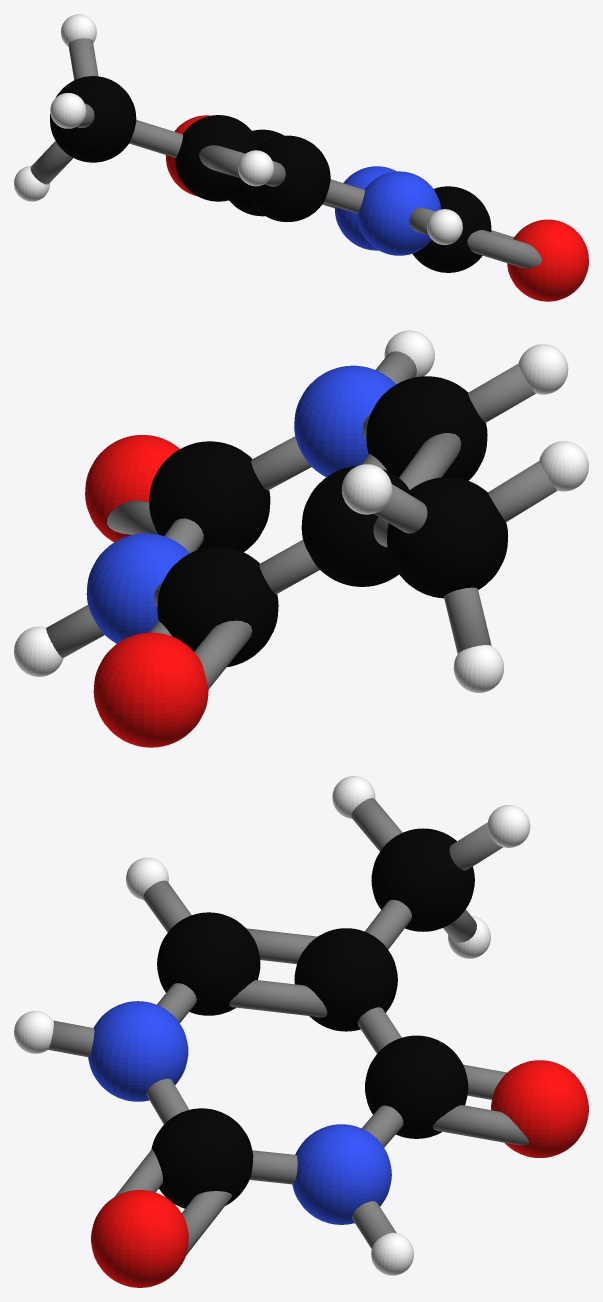
Rendered from TIMINA.obj.
The picture shows the model from 3 angles, top to bottom: view 1: azimuth 30°, elevation 25°; view 2: azimuth 150°, elevation 25°; view 3: azimuth 270°, elevation 25°; orthographic projection. The views are drawn at different scales.
Visible parts, largest first — view 1: Carbon_ball_Sphere, Nitrogen_ball_Sphere.003, Oxygen_ball_Sphere.002, Hydrogen_ball_Sphere.001, Stick_Cylinder.014_Cylinder.014, Stick_Cylinder.009_Cylinder.009, Stick_Cylinder.012_Cylinder.012, Stick_Cylinder_Cylinder, Stick_Cylinder.008_Cylinder.008, Stick_Cylinder.001_Cylinder.001, Stick_Cylinder.004_Cylinder.004; view 2: Carbon_ball_Sphere, Oxygen_ball_Sphere.002, Nitrogen_ball_Sphere.003, Hydrogen_ball_Sphere.001, Stick_Cylinder.013_Cylinder.013, Stick_Cylinder.012_Cylinder.012, Stick_Cylinder.002_Cylinder.002, Stick_Cylinder.005_Cylinder.005, Stick_Cylinder_Cylinder, Stick_Cylinder.011_Cylinder.011, Stick_Cylinder.017_Cylinder.017, Stick_Cylinder.003_Cylinder.003 (+4 smaller); view 3: Carbon_ball_Sphere, Nitrogen_ball_Sphere.003, Oxygen_ball_Sphere.002, Hydrogen_ball_Sphere.001, Stick_Cylinder.018_Cylinder.018, Stick_Cylinder.016_Cylinder.016, Stick_Cylinder_Cylinder, Stick_Cylinder.015_Cylinder.015, Stick_Cylinder.013_Cylinder.013, Stick_Cylinder.010_Cylinder.010, Stick_Cylinder.002_Cylinder.002, Stick_Cylinder.008_Cylinder.008 (+10 smaller).
Part boxes in pixels (x1,y1,x2,y2): Carbon_ball_Sphere: [50, 76, 491, 272]; Nitrogen_ball_Sphere.003: [335, 166, 440, 255]; Oxygen_ball_Sphere.002: [165, 115, 588, 301]; Hydrogen_ball_Sphere.001: [14, 14, 462, 244]; Stick_Cylinder.014_Cylinder.014: [467, 230, 541, 268]; Stick_Cylinder.009_Cylinder.009: [129, 120, 183, 157]; Stick_Cylinder.012_Cylinder.012: [30, 141, 72, 184]; Stick_Cylinder_Cylinder: [199, 145, 244, 178]; Stick_Cylinder.008_Cylinder.008: [68, 38, 98, 79]; Stick_Cylinder.001_Cylinder.001: [323, 179, 364, 213]; Stick_Cylinder.004_Cylinder.004: [409, 207, 435, 235]; Carbon_ball_Sphere: [149, 376, 507, 666]; Oxygen_ball_Sphere.002: [85, 435, 208, 747]; Nitrogen_ball_Sphere.003: [86, 365, 395, 643]; Hydrogen_ball_Sphere.001: [14, 330, 588, 692]; Stick_Cylinder.013_Cylinder.013: [488, 461, 556, 521]; Stick_Cylinder.012_Cylinder.012: [444, 587, 491, 653]; Stick_Cylinder.002_Cylinder.002: [468, 363, 535, 422]; Stick_Cylinder.005_Cylinder.005: [194, 620, 252, 689]; Stick_Cylinder_Cylinder: [399, 433, 461, 489]; Stick_Cylinder.011_Cylinder.011: [251, 436, 311, 490]; Stick_Cylinder.017_Cylinder.017: [259, 540, 319, 594]; Stick_Cylinder.003_Cylinder.003: [46, 605, 104, 657]; Carbon_ball_Sphere: [151, 828, 474, 1208]; Nitrogen_ball_Sphere.003: [88, 1001, 391, 1224]; Oxygen_ball_Sphere.002: [91, 1060, 588, 1287]; Hydrogen_ball_Sphere.001: [14, 776, 530, 1275]; Stick_Cylinder.018_Cylinder.018: [229, 980, 327, 1017]; Stick_Cylinder.016_Cylinder.016: [433, 1105, 528, 1145]; Stick_Cylinder_Cylinder: [246, 928, 317, 964]; Stick_Cylinder.015_Cylinder.015: [181, 1191, 231, 1255]; Stick_Cylinder.013_Cylinder.013: [351, 798, 402, 851]; Stick_Cylinder.010_Cylinder.010: [249, 1150, 297, 1184]; Stick_Cylinder.002_Cylinder.002: [143, 880, 191, 932]; Stick_Cylinder.008_Cylinder.008: [449, 822, 502, 870].
Bounding box in the file's own units: 8.15 × 4.47 × 7.7.
